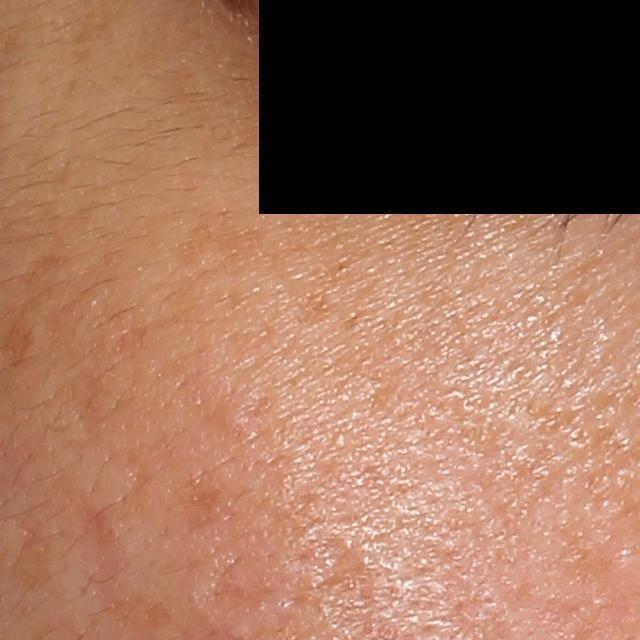melasma: (174, 212, 275, 281), (16, 249, 73, 291), (2, 314, 42, 373), (292, 288, 341, 327)
